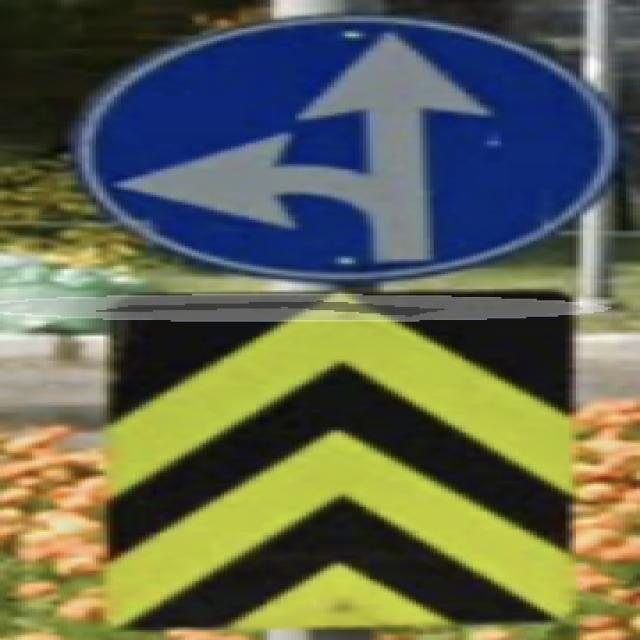Straight or Left: (74, 15, 621, 282)
